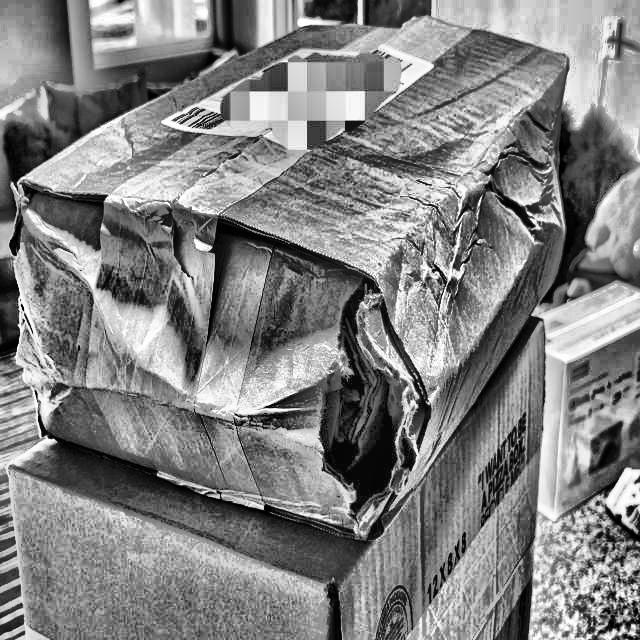box: (0, 5, 589, 564)
hole: (310, 269, 428, 533)
